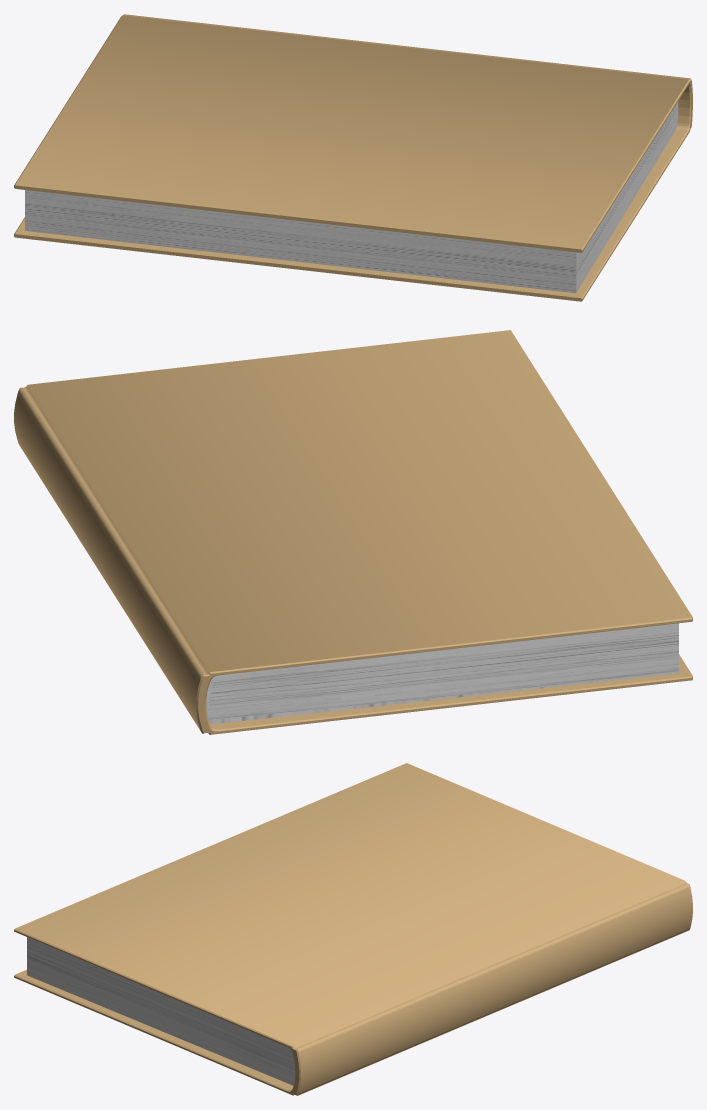
Rendered from Book.fbx.
3 renders of one model, top to bottom at view 1: azimuth 30°, elevation 25°; view 2: azimuth 150°, elevation 25°; view 3: azimuth 270°, elevation 25°, orthographic. The views are drawn at different scales.
Parts seen in each view (by area): view 1: Box56; view 2: Box56; view 3: Box56.
Part boxes in pixels (left/top/right/bottom): Box56: left=14, top=14, right=692, bottom=301; Box56: left=14, top=330, right=692, bottom=734; Box56: left=14, top=763, right=692, bottom=1095.
Size of the model in its own units: 27.77 by 2.23 by 27.8.
